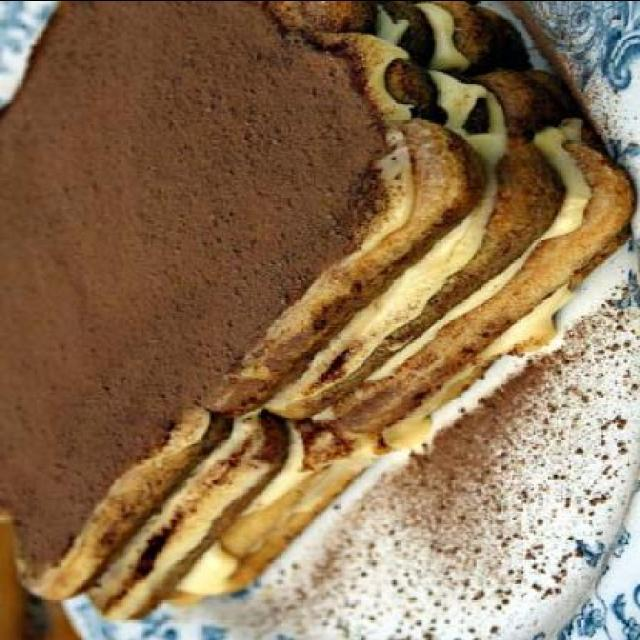Tiramisu: (29, 5, 598, 607)
